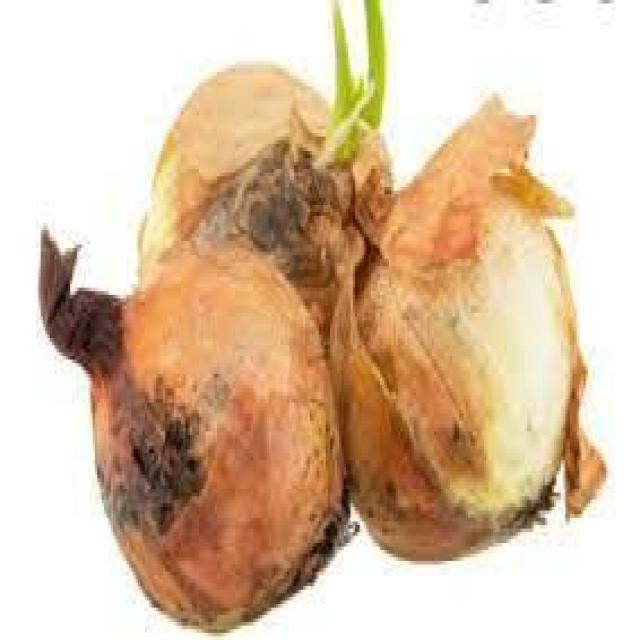Onion: (32, 230, 348, 629), (335, 101, 608, 561), (138, 72, 391, 320), (322, 0, 386, 173)
